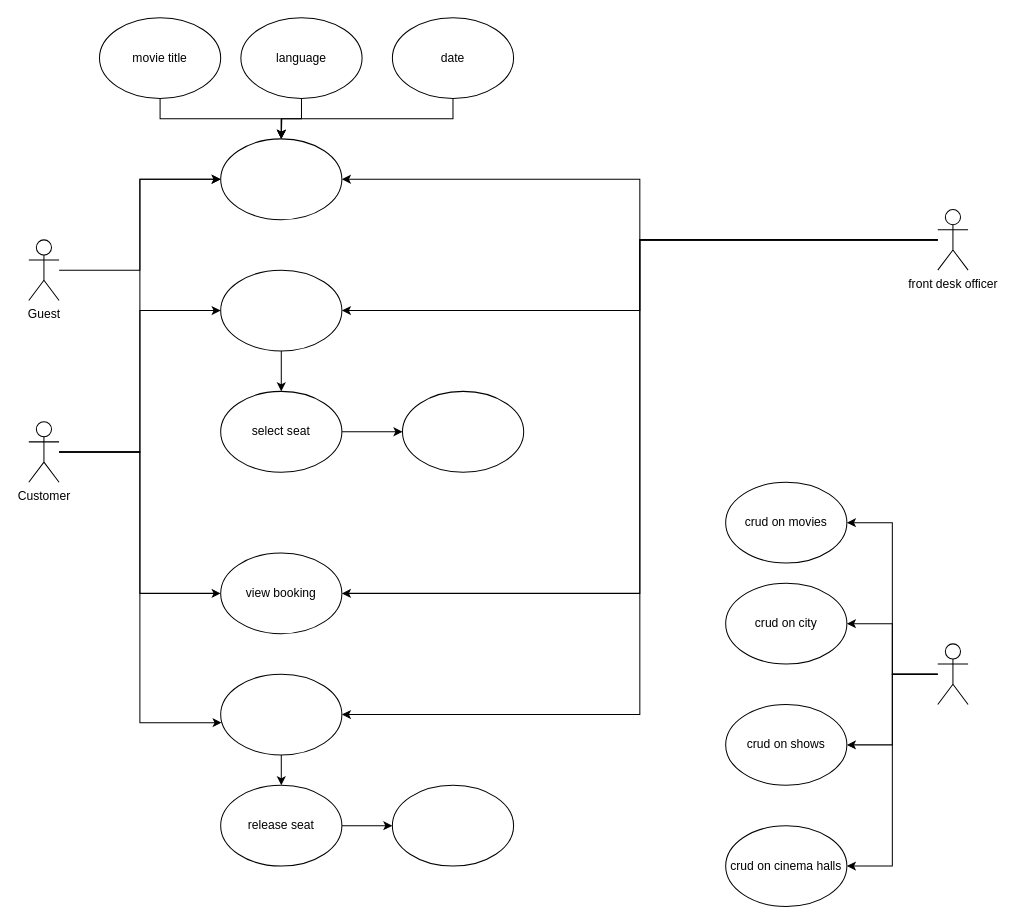
Image size: 1015x924. Some labels were removed from this diagram. The shapes that lost their labels are listed below. From the top down, each one's centre as x and y in pixels, then its label:
At pixel 281 179: "search".
At pixel 281 310: "create booking".
At pixel 462 431: "do payment".
At pixel 952 673: "Admin".
At pixel 281 714: "cancle booking".
At pixel 452 825: "do refund".
